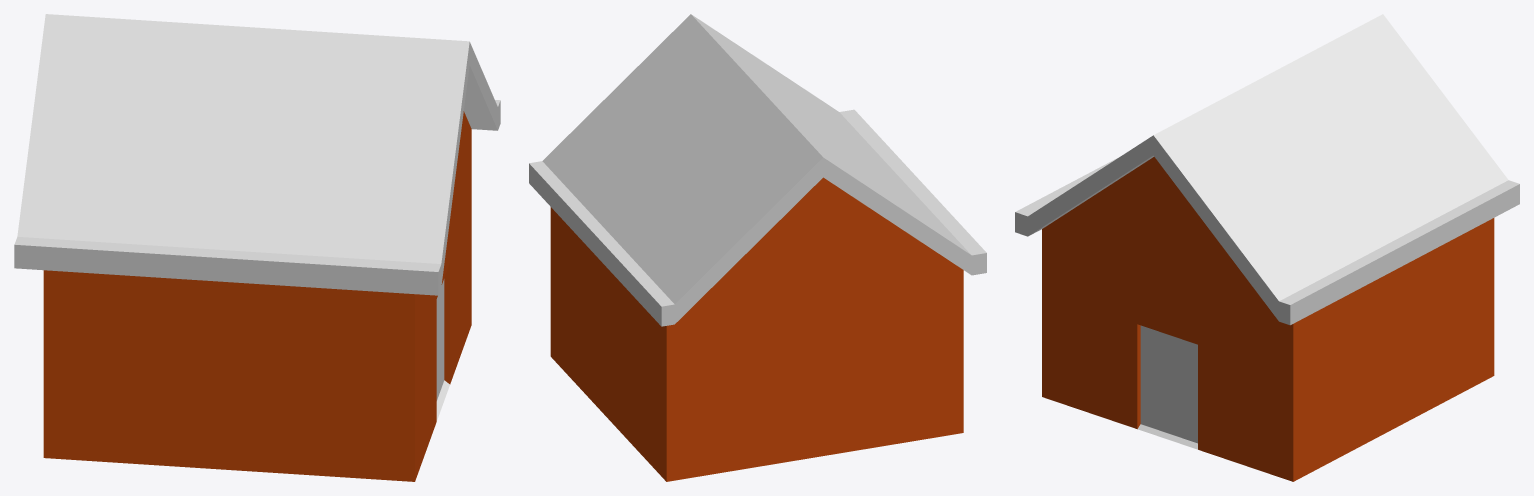
File: TownHall.fbx
The picture shows the model from 3 angles, left to right: view 1: azimuth 30°, elevation 25°; view 2: azimuth 150°, elevation 25°; view 3: azimuth 270°, elevation 25°; orthographic projection. The views are drawn at different scales.
Parts seen in each view (by area): view 1: TownHall; view 2: TownHall; view 3: TownHall.
Part boxes in pixels (x1=…): TownHall: x1=14, y1=14, x2=500, y2=481; TownHall: x1=529, y1=14, x2=986, y2=481; TownHall: x1=1015, y1=14, x2=1519, y2=481.
Size of the model in its own units: 31.53 by 21.39 by 31.38.
